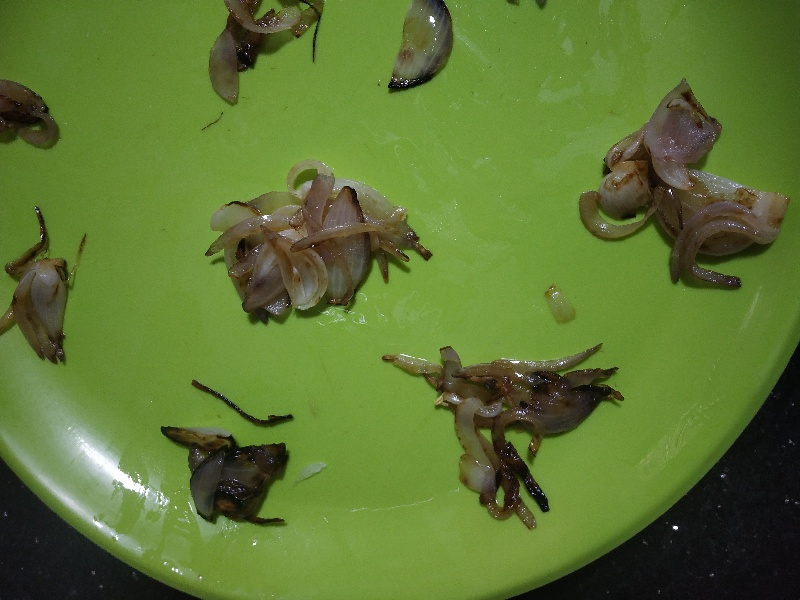onion_burnt: (494, 366, 632, 528), (135, 407, 288, 532)
onion_fried: (210, 163, 427, 317), (12, 214, 75, 374)
